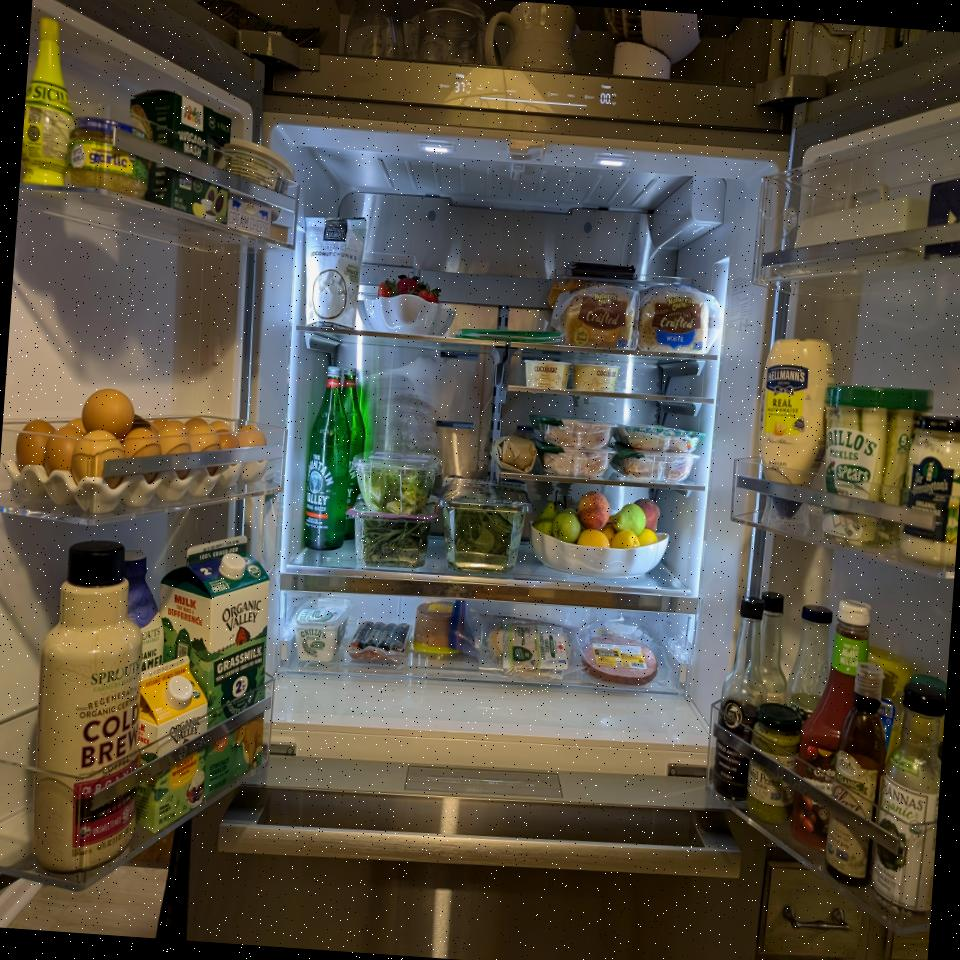Huevos: (6, 382, 281, 524)
